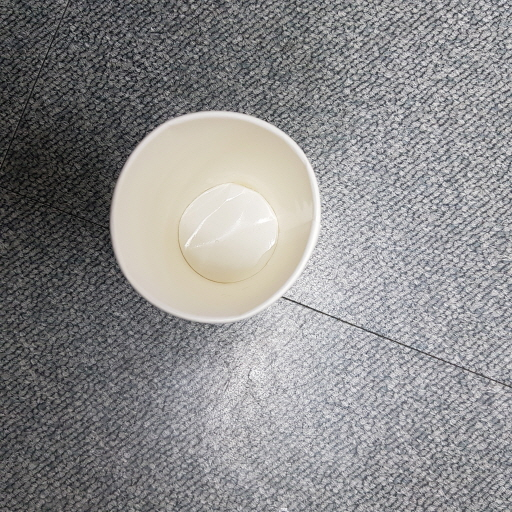Paper_1: (107, 111, 321, 324)
